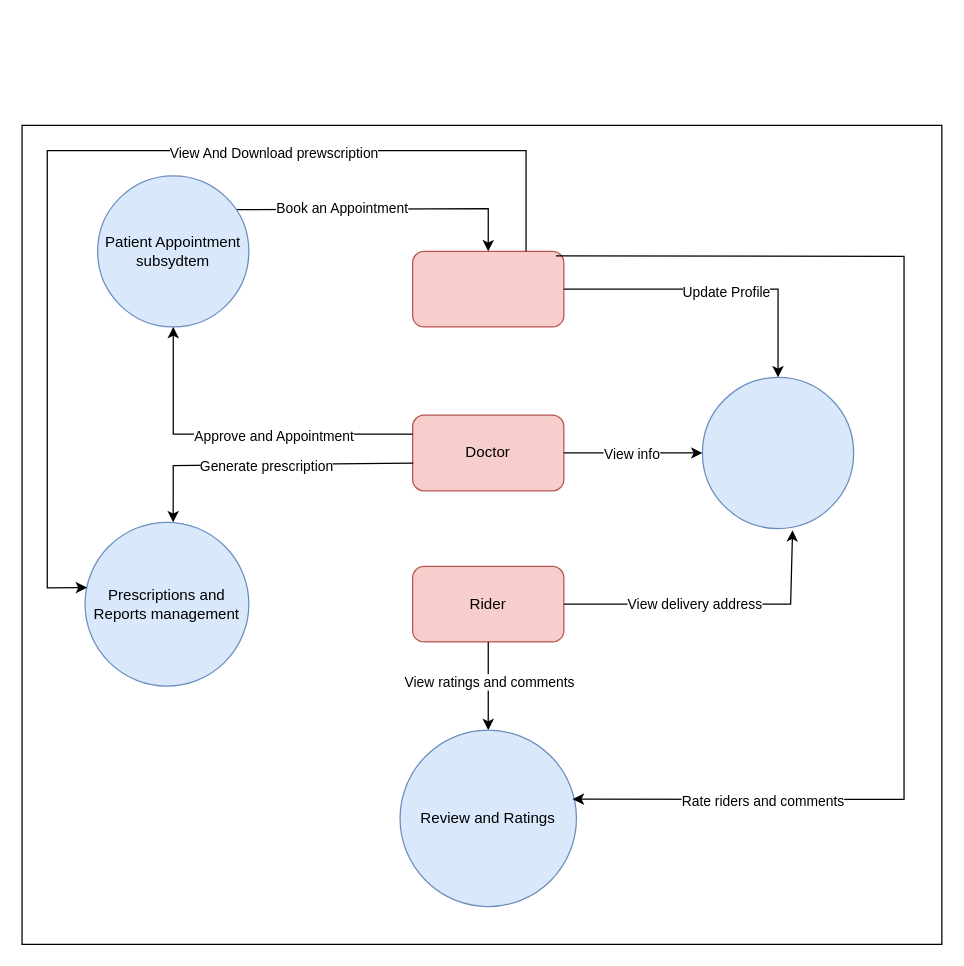
Some shapes in this 964 by 966 pixel diagram are drawn without their labels. The shapes that lost their labels are listed below. From the top down, each one's centre as x and y in pixels, then its label:
At point (487, 288): "Patient".
At point (777, 452): "Patient information subsystem".
